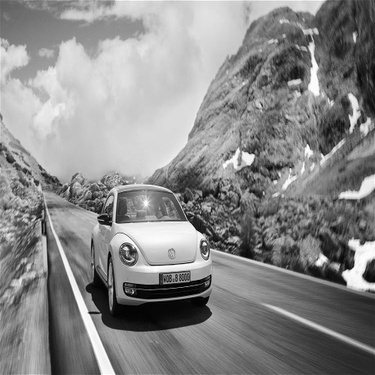car: (62, 166, 231, 312)
